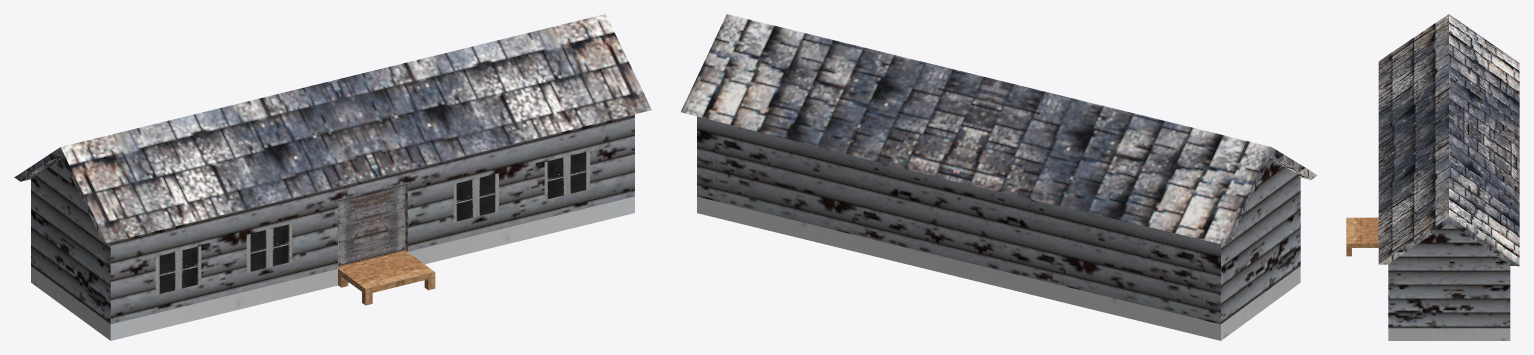
File: psx_house.fbx
The picture shows the model from 3 angles, left to right: view 1: azimuth 30°, elevation 25°; view 2: azimuth 150°, elevation 25°; view 3: azimuth 270°, elevation 25°; orthographic projection. The views are drawn at different scales.
Parts seen in each view (by area): view 1: House; view 2: House; view 3: House.
Boxes of the visible parts, x1,y1,x2,y2 form: House: (14,14,651,340); House: (680,14,1317,340); House: (1346,14,1519,340).
Bounding box in the file's own units: 7987 × 2344 × 2886.
1 material, 1 textured.
